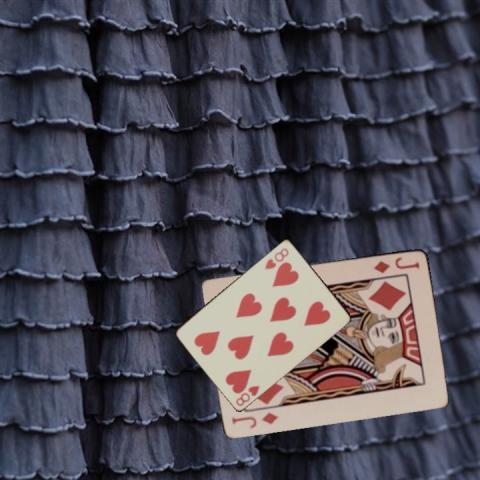8h: (261, 244, 290, 270), (233, 382, 261, 407)
Jd: (371, 253, 421, 275), (229, 409, 280, 429)
